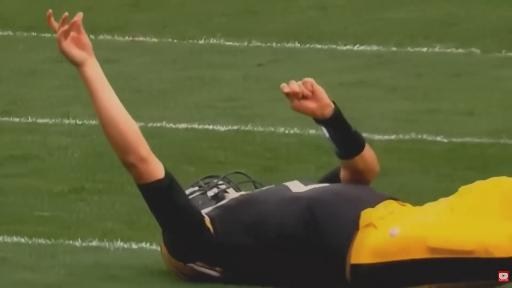Helmet: (186, 171, 264, 210)
Jersey: (203, 181, 390, 287)
Player: (48, 11, 511, 287)
